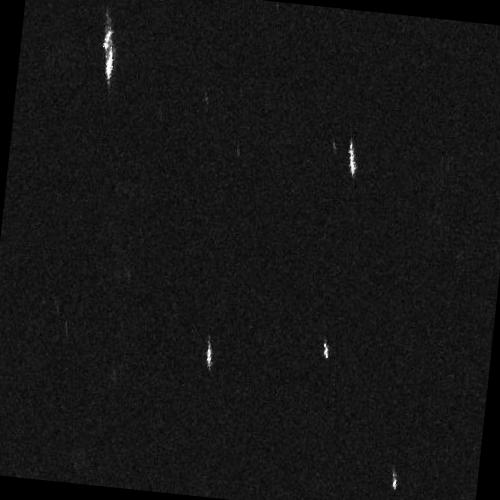ship: (102, 15, 115, 86), (347, 135, 357, 179), (206, 336, 212, 371), (322, 341, 329, 360), (391, 472, 397, 491)
